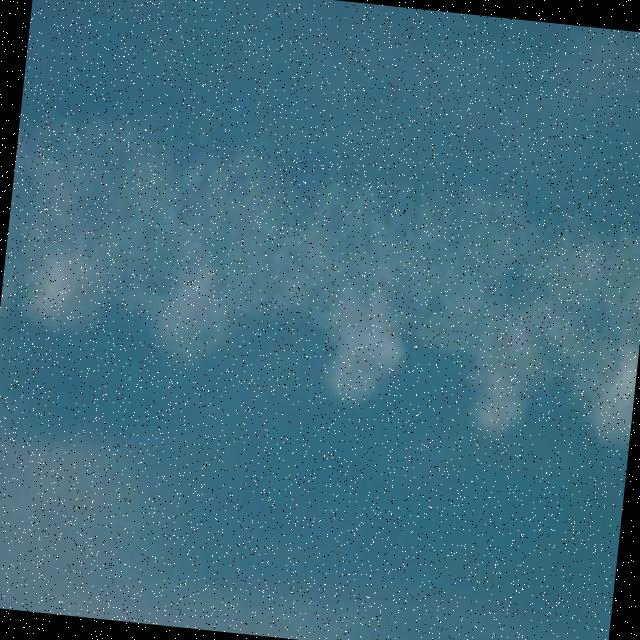Cc: (1, 49, 640, 504)
